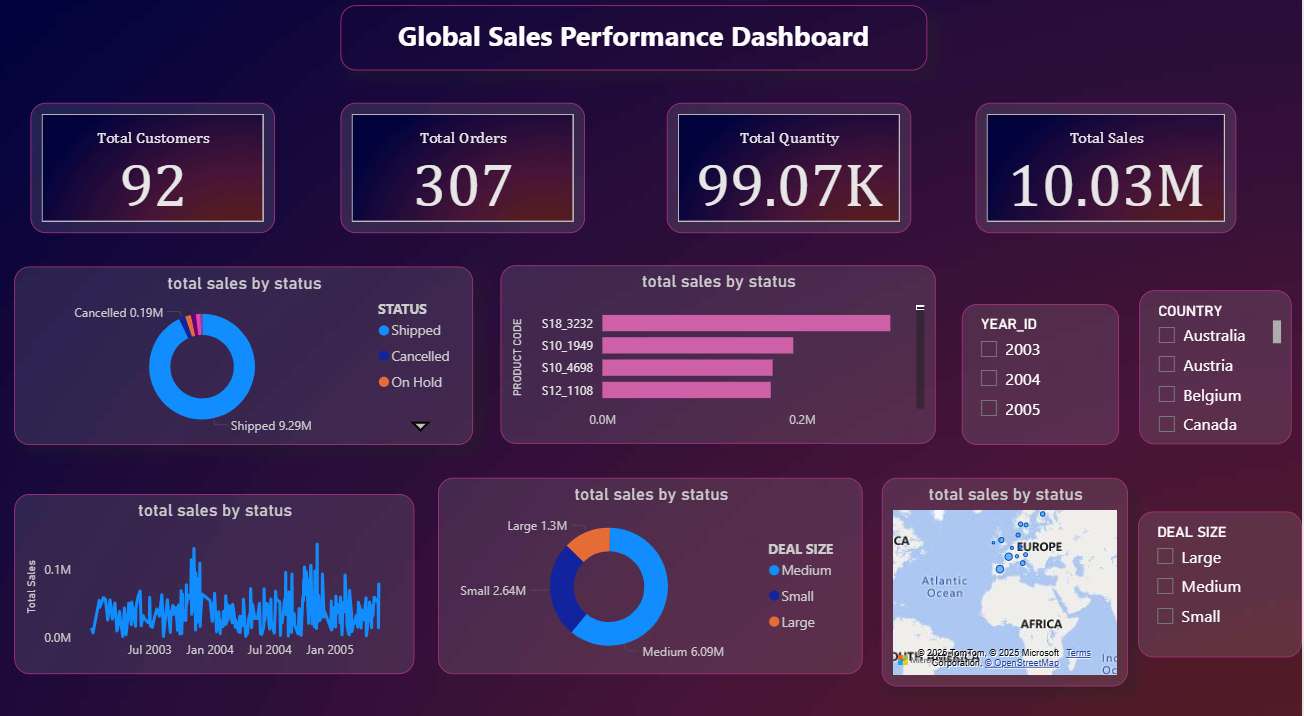

This screenshot's page, from the dashboard's own definition file:
{"tool":"powerbi","page":{"name":"Page 1","canvas":[1280,720],"ordinal":0},"visuals":[{"type":"donutChart","title":"total sales by status","fields":{"Y":["sales_data_sample.Total Sales"],"Category":["sales_data_sample.DEAL SIZE"]},"box":[528,496,480,176],"z":0},{"type":"donutChart","title":"total sales by status","fields":{"Category":["sales_data_sample.STATUS"],"Y":["sales_data_sample.Total Sales"]},"box":[16,256,480,176],"z":1000},{"type":"lineChart","title":"total sales by status","fields":{"Category":["sales_data_sample.ORDER DATE.Variation.Date Hierarchy.Year","sales_data_sample.ORDER DATE.Variation.Date Hierarchy.Quarter","sales_data_sample.ORDER DATE.Variation.Date Hierarchy.Month","sales_data_sample.ORDER DATE.Variation.Date Hierarchy.Day"],"Y":["sales_data_sample.Total Sales"]},"box":[16,496,480,176],"z":2000},{"type":"map","title":"total sales by status","fields":{"Size":["sales_data_sample.Total Sales"],"Category":["sales_data_sample.COUNTRY"]},"box":[1024,480,256,208],"z":3000},{"type":"clusteredBarChart","title":"total sales by status","fields":{"Category":["sales_data_sample.PRODUCT CODE"],"Y":["sales_data_sample.Total Sales"]},"box":[544,256,480,176],"z":4000},{"type":"slicer","title":"total sales by status","fields":{"Values":["sales_data_sample.YEAR_ID","sales_data_sample.COUNTRY","sales_data_sample.DEAL SIZE"]},"box":[1040,272,240,128],"z":5000},{"type":"cardVisual","title":"total sales by status","fields":{"Data":["sales_data_sample.Total Sales"]},"box":[976,96,256,128],"z":6000},{"type":"cardVisual","fields":{"Data":["sales_data_sample.Total Quantity"]},"box":[672,96,256,128],"z":7000},{"type":"cardVisual","fields":{"Data":["sales_data_sample.Total Orders"]},"box":[368,96,256,128],"z":8000},{"type":"cardVisual","fields":{"Data":["sales_data_sample.Total Customers"]},"box":[48,96,256,128],"z":9000},{"type":"textbox","box":[336,16,576,64],"z":10000}]}

Visuals, with their boxes in screenshot pixels (x1, y1, x2, y2), scaled from the page's 1280x720 canvas onto the 1304x716 screenshot:
"total sales by status" donutChart: 538, 493, 1027, 668
"total sales by status" donutChart: 16, 255, 505, 430
"total sales by status" lineChart: 16, 493, 505, 668
"total sales by status" map: 1043, 477, 1303, 684
"total sales by status" clusteredBarChart: 554, 255, 1043, 430
"total sales by status" slicer: 1060, 270, 1303, 398
"total sales by status" cardVisual: 994, 95, 1255, 223
cardVisual - sales_data_sample.Total Quantity: 685, 95, 945, 223
cardVisual - sales_data_sample.Total Orders: 375, 95, 636, 223
cardVisual - sales_data_sample.Total Customers: 49, 95, 310, 223
textbox: 342, 16, 929, 80
